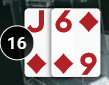6: (52, 9, 75, 33)
j: (25, 9, 48, 34)
